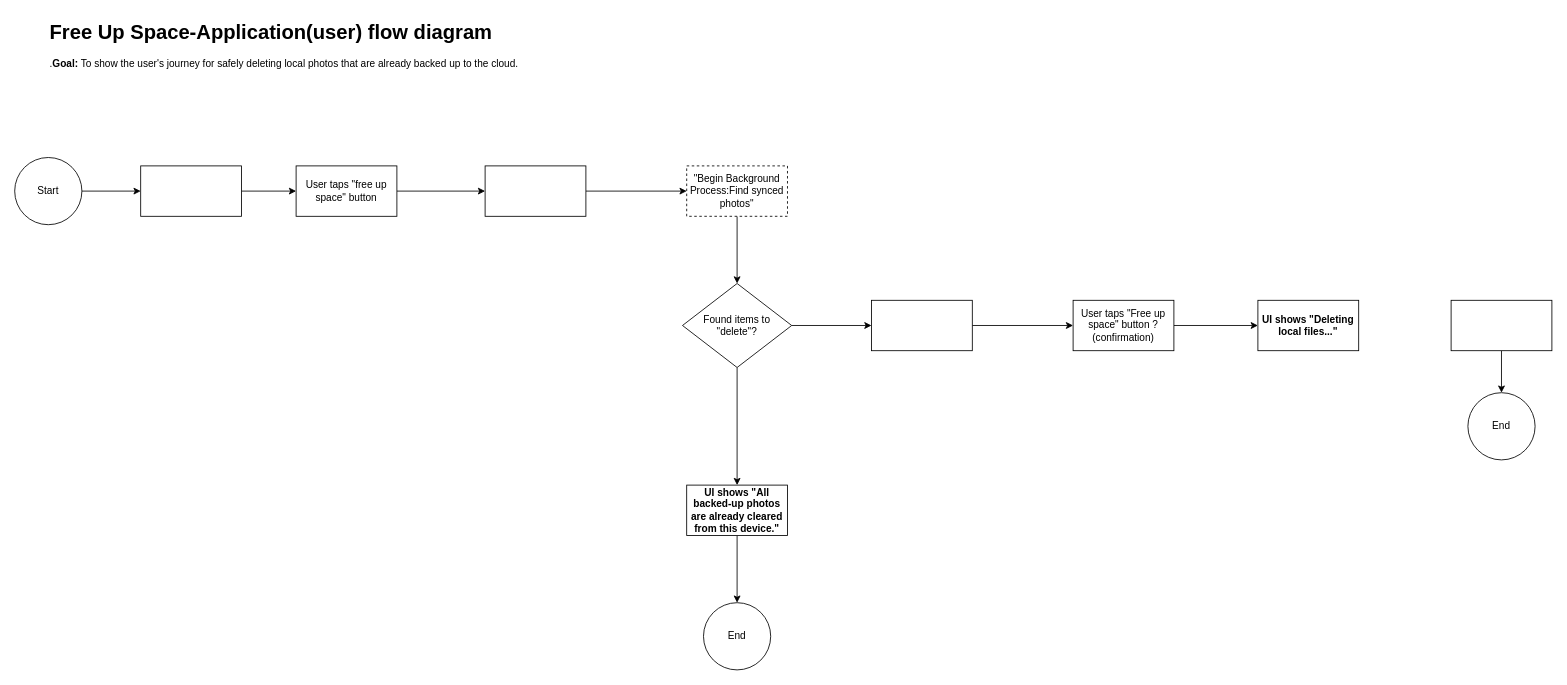
Image size: 1567x685. Some labels were removed from this diagram. The box of each missing label's shape, as (x1, y1, x2, y2) in pixels:
UI shows "Ready to free up 1.2GB(50 photos)?": (871, 299, 972, 351)
UI shows "Scanning for backed up items": (484, 165, 586, 216)
UI shows "Successfully freed 1.2Gb": (1450, 299, 1552, 351)
User taps profile icon, then "Settings": (140, 165, 242, 216)
